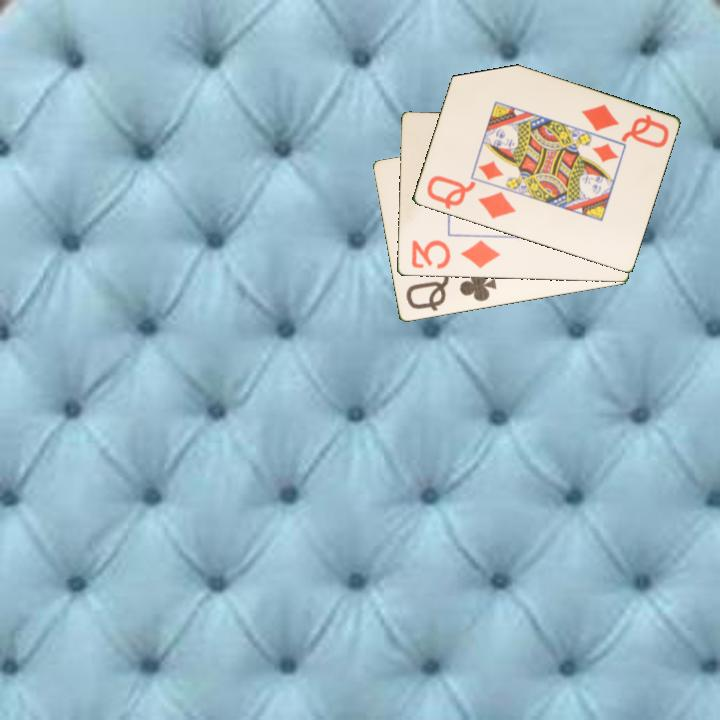3d: (407, 237, 503, 272)
Qc: (402, 267, 499, 315)
Qd: (423, 172, 519, 222), (577, 100, 671, 151)
